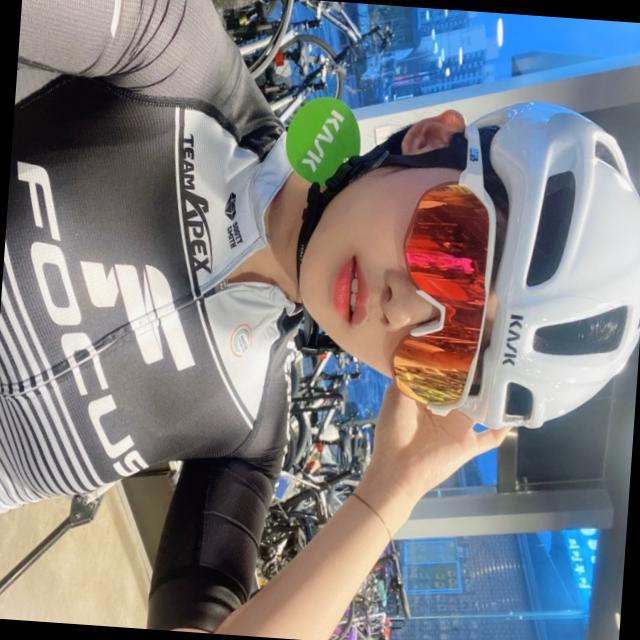WITH_HELMET: (446, 18, 640, 489)
